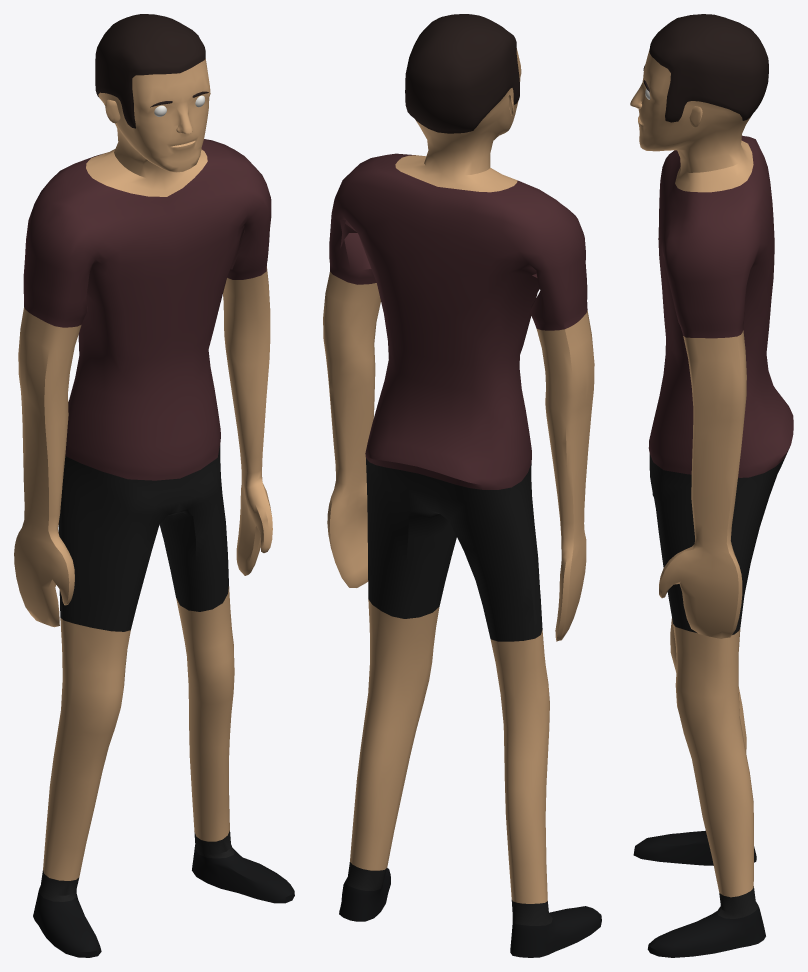
The model's file is smooth_male_casual.glb.
3 views of the same model, side by side, from view 1: azimuth 30°, elevation 25°; view 2: azimuth 150°, elevation 25°; view 3: azimuth 270°, elevation 25° (orthographic). The views are drawn at different scales.
Visible parts, largest first — view 1: SmoothMaleCasual; view 2: SmoothMaleCasual; view 3: SmoothMaleCasual.
Part boxes in pixels (x1,y1,x2,y2): SmoothMaleCasual: (14, 14, 294, 957); SmoothMaleCasual: (323, 14, 601, 957); SmoothMaleCasual: (630, 14, 793, 957).
Size of the model in its own units: 0.5249 by 1.8 by 0.3032.
